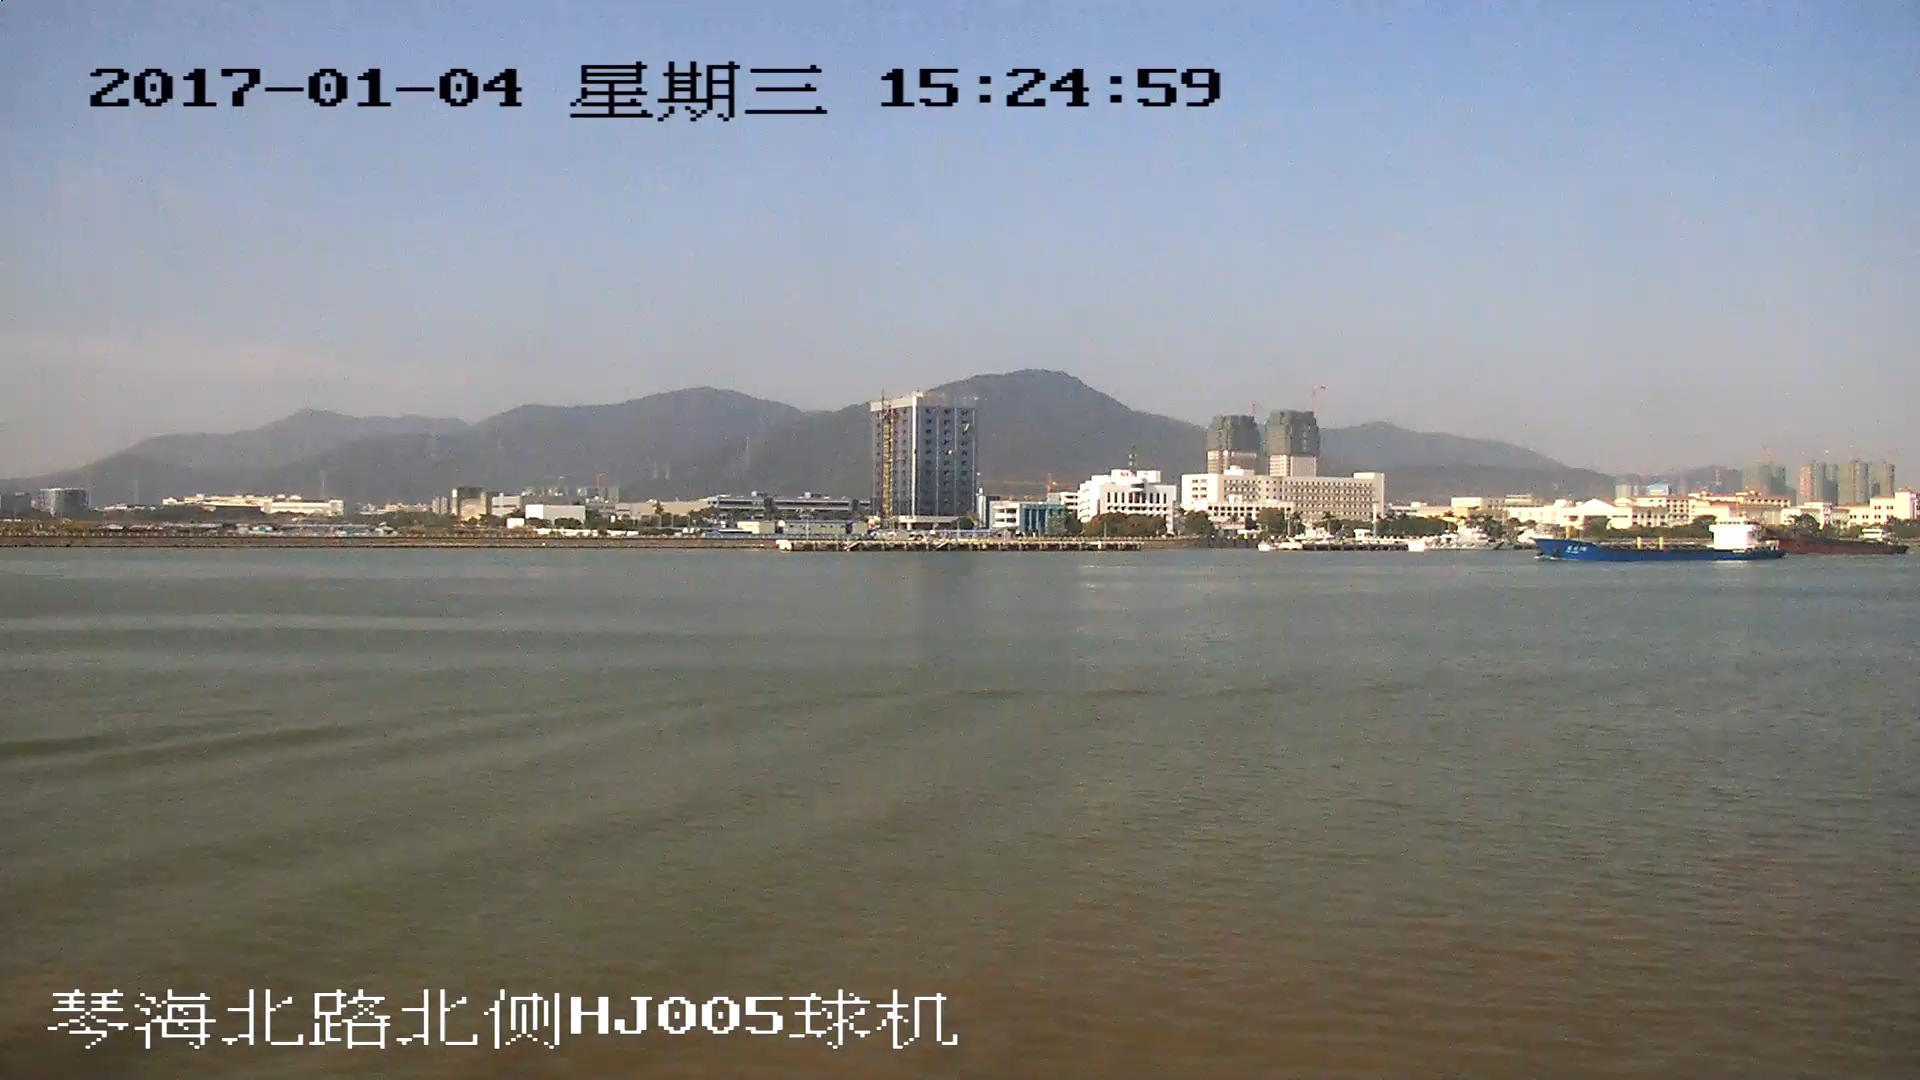general cargo ship: (1542, 510, 1785, 560)
